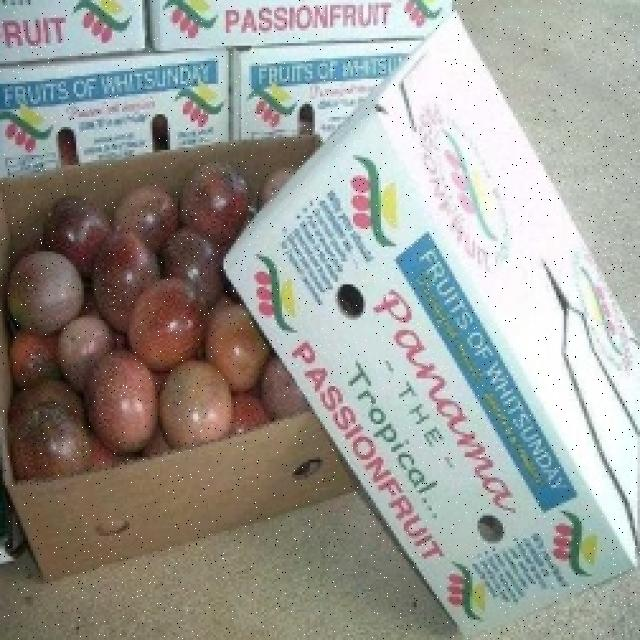box: (0, 157, 640, 640), (3, 65, 250, 163), (236, 41, 412, 140), (0, 0, 170, 91), (155, 0, 444, 41)
